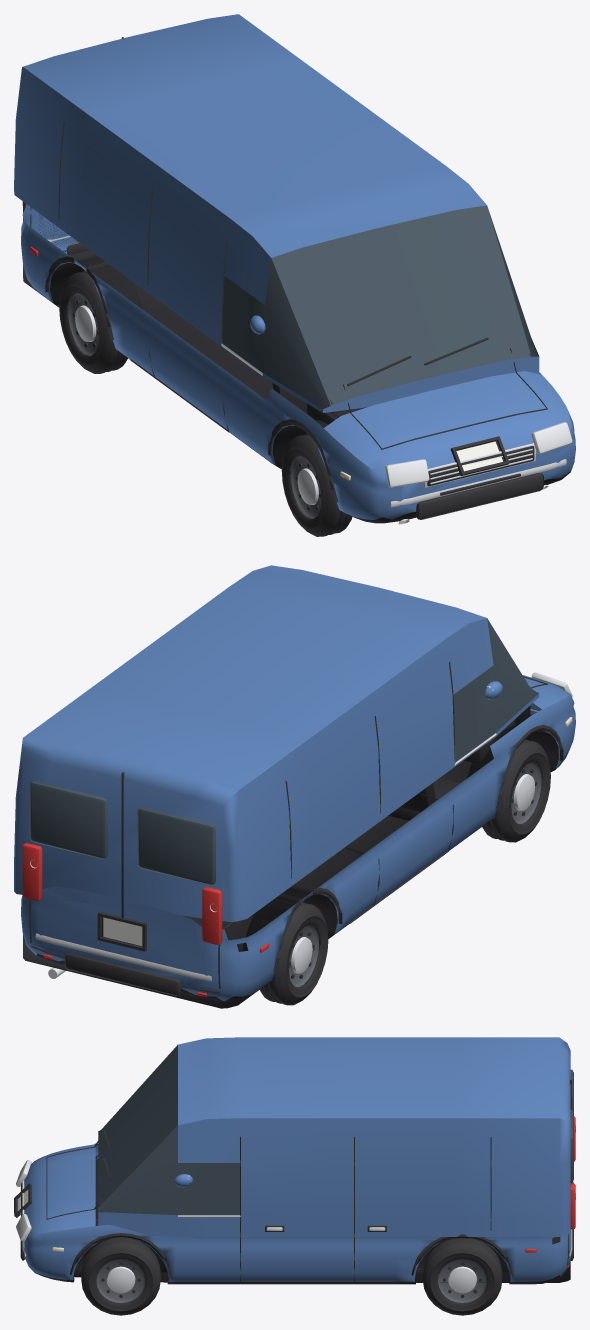
File: CarV2_Van.fbx
3 views of the same model, one above another, from view 1: azimuth 30°, elevation 25°; view 2: azimuth 150°, elevation 25°; view 3: azimuth 270°, elevation 25° (orthographic). The views are drawn at different scales.
Parts seen in each view (by area): view 1: CarV2_Van; view 2: CarV2_Van; view 3: CarV2_Van.
Part boxes in pixels (box(x1,y1,x2,y2)): CarV2_Van: box(14, 14, 575, 536); CarV2_Van: box(14, 565, 575, 1008); CarV2_Van: box(14, 1037, 575, 1315).
Bounding box in the file's own units: 1.93 × 1.95 × 4.94.
